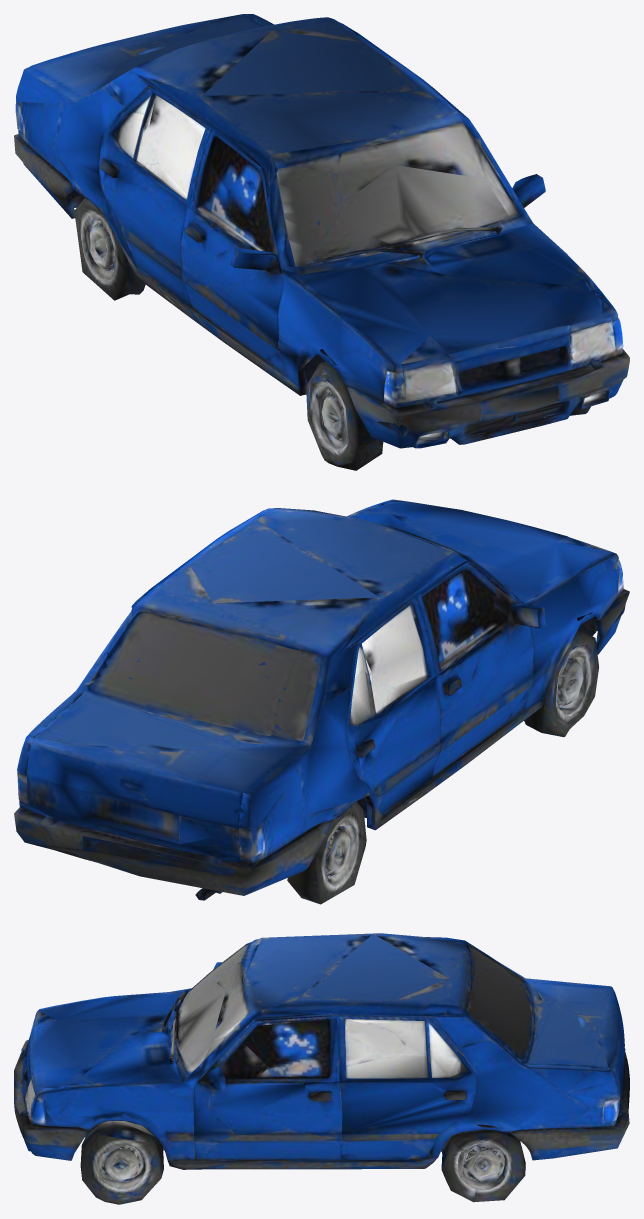
The model's file is araba-blue.glb.
3 views of the same model, one above another, from view 1: azimuth 30°, elevation 25°; view 2: azimuth 150°, elevation 25°; view 3: azimuth 270°, elevation 25° (orthographic). The views are drawn at different scales.
Visible parts, largest first — view 1: node_0; view 2: node_0; view 3: node_0.
Part boxes in pixels (bbox=[...]): node_0: bbox=[14, 14, 629, 470]; node_0: bbox=[14, 499, 629, 904]; node_0: bbox=[14, 933, 629, 1204].
Bounding box in the file's own units: 1.32 × 1.01 × 2.9.
Materials: 1 (1 with a texture image).
